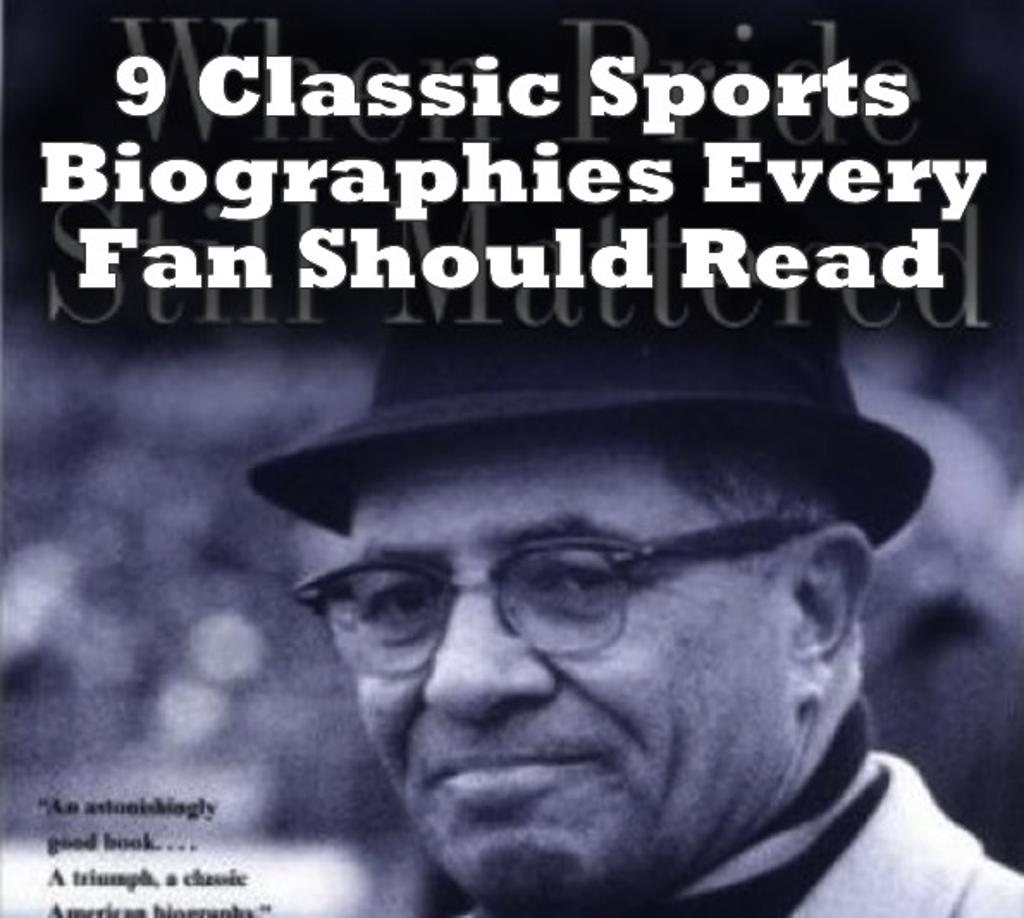face: (342, 476, 784, 906)
